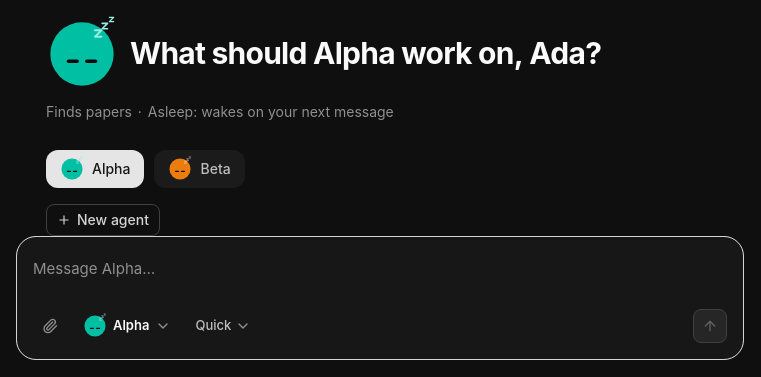
Test: The model picker in a new chat › with more than one agent › starts again on coming back to the first agent, too
This screenshot has width=761, height=377.
Press Enter in the button "Quick", box [187, 310, 259, 342]
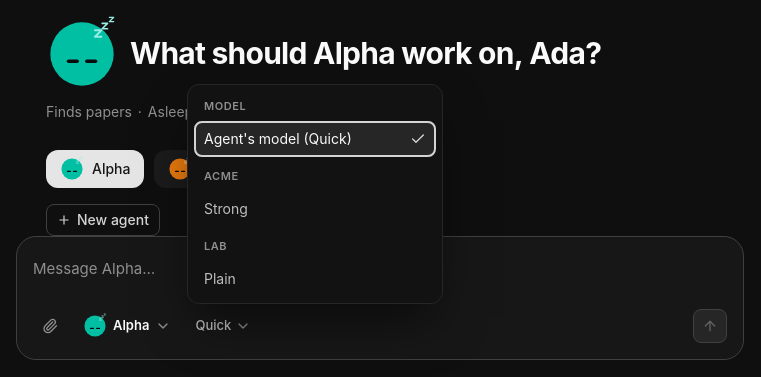
Click the menu item "Strong".
click(226, 209)  # box [204, 200, 248, 217]
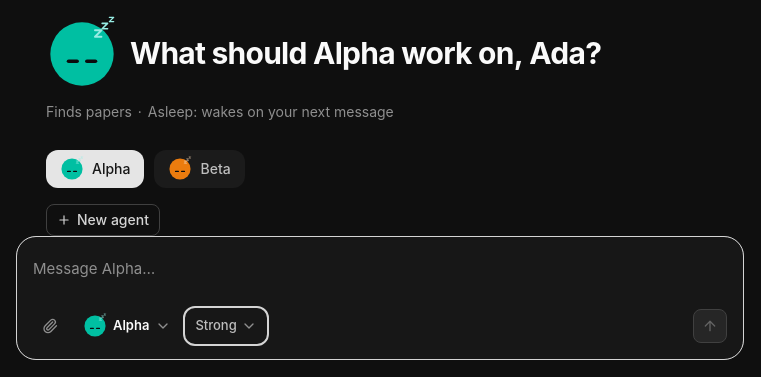
Click the button "Beta".
click(200, 169)  # box [154, 150, 245, 188]
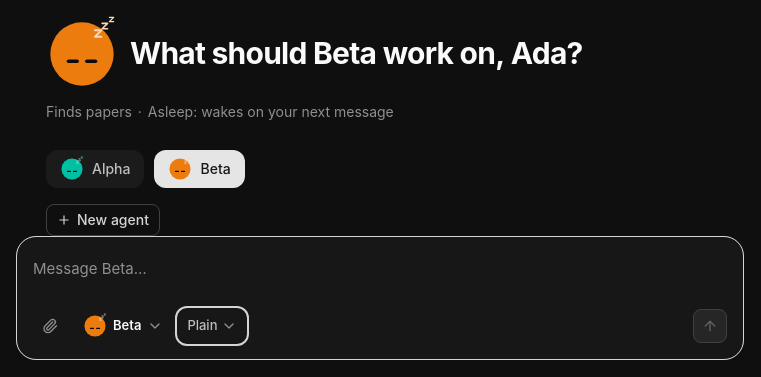
Click the button "Alpha".
click(95, 169)  # box [46, 150, 144, 188]
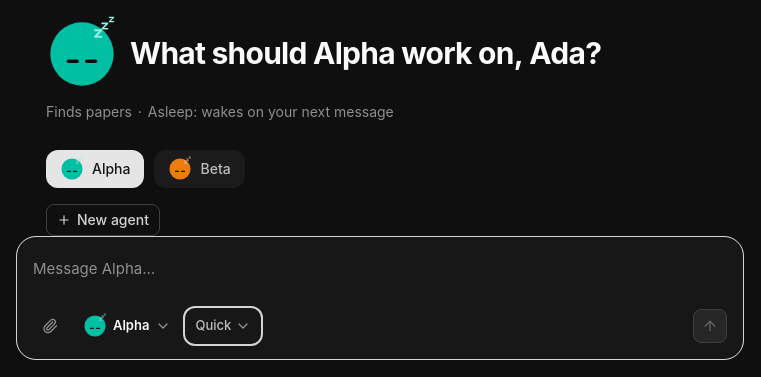
Expected: the text "Quick" is shown, [195, 315, 231, 337]
